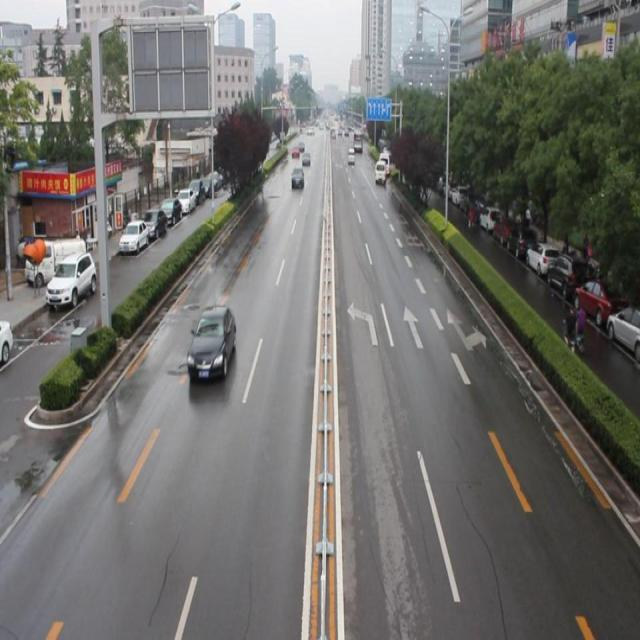car: (186, 304, 236, 382), (290, 164, 305, 190)
truck: (373, 162, 386, 185)
